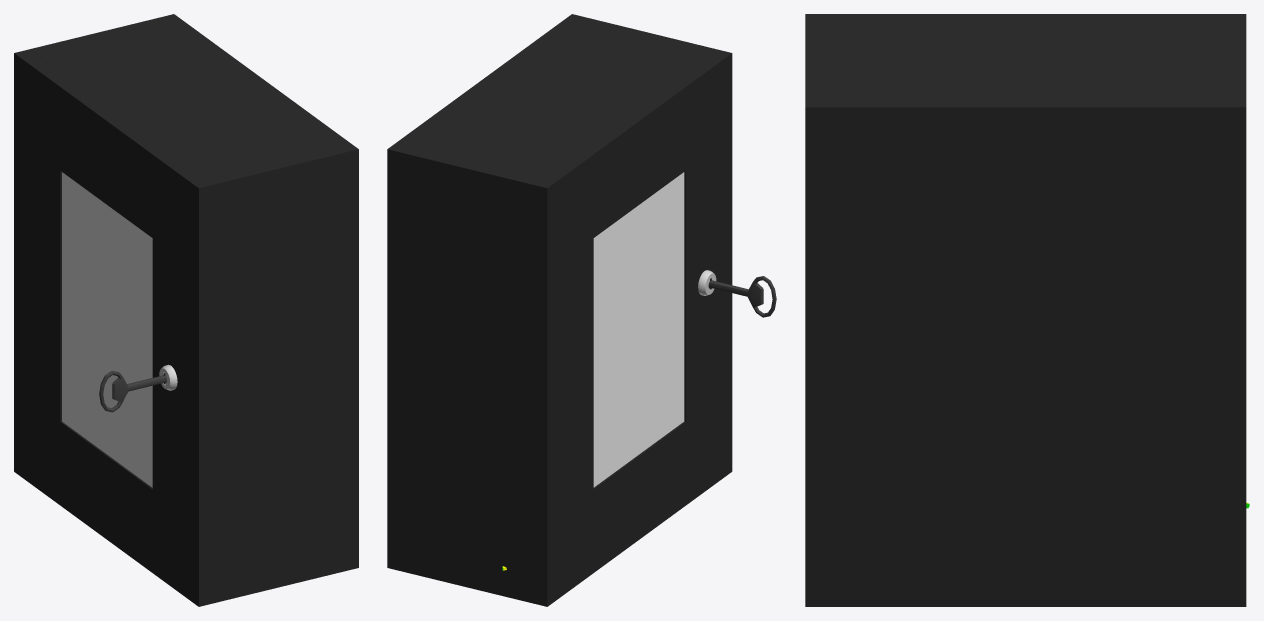
The model's file is BoxModelV6.FBX.
3 views of the same model, side by side, from view 1: azimuth 30°, elevation 25°; view 2: azimuth 150°, elevation 25°; view 3: azimuth 270°, elevation 25° (orthographic). The views are drawn at different scales.
Parts seen in each view (by area): view 1: Box, Door, Window, Key; view 2: Box, Door, Window, Key; view 3: Box, Door.
Part boxes in pixels (<box>): Box: <box>30,14,358,602</box>; Door: <box>14,49,214,606</box>; Window: <box>62,172,152,487</box>; Key: <box>99,370,166,412</box>; Box: <box>387,14,715,602</box>; Door: <box>531,49,732,606</box>; Window: <box>593,172,684,487</box>; Key: <box>708,276,776,317</box>; Box: <box>805,23,1246,606</box>; Door: <box>805,14,1246,23</box>.
Size of the model in its own units: 29 by 50 by 40.32.
